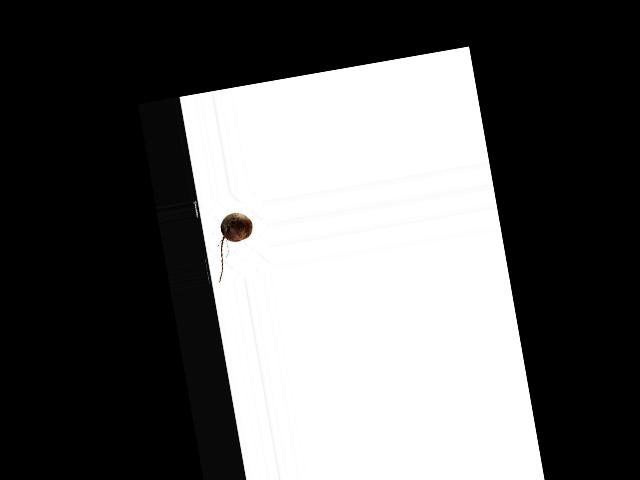beet: (208, 211, 260, 282)
